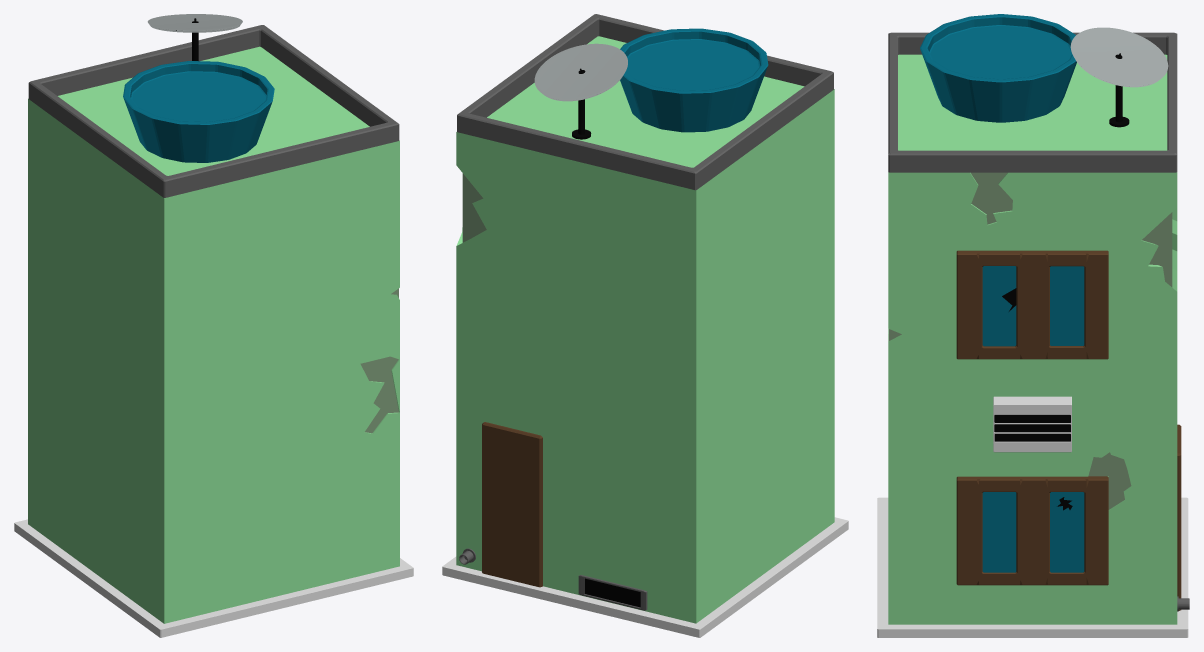
Rendered from Building #05.fbx.
3 views of the same model, side by side, from view 1: azimuth 30°, elevation 25°; view 2: azimuth 150°, elevation 25°; view 3: azimuth 270°, elevation 25° (orthographic). The views are drawn at different scales.
Parts seen in each view (by area): view 1: House.002, House.001, Roof.001, Box, Floor, Metal, Crack.004; view 2: House.002, House.001, Roof.001, Box, Door, Floor, Metal, Crack.005, Exit.002, Exit.001; view 3: House.002, House.001, Box, Wooden.001, Wooden.002, Roof.001, Floor, Window.002, Window.001, Metal, Air.002, Air.001 (+4 smaller).
Part boxes in pixels (<box>): House.002: <box>28,46,399,411</box>; House.001: <box>28,312,399,623</box>; Roof.001: <box>28,25,399,197</box>; Box: <box>123,61,274,162</box>; Floor: <box>14,519,413,637</box>; Metal: <box>147,14,242,32</box>; Crack.004: <box>360,356,398,433</box>; House.002: <box>456,36,834,407</box>; House.001: <box>456,306,834,623</box>; Roof.001: <box>457,14,833,190</box>; Box: <box>620,28,768,132</box>; Door: <box>482,422,542,587</box>; Floor: <box>442,517,848,637</box>; Metal: <box>534,43,627,101</box>; Crack.005: <box>462,173,486,242</box>; Exit.002: <box>584,578,640,607</box>; Exit.001: <box>578,575,647,610</box>; House.002: <box>888,54,1177,399</box>; House.001: <box>888,399,1177,624</box>; Box: <box>920,14,1076,122</box>; Wooden.001: <box>956,250,1108,359</box>; Wooden.002: <box>956,476,1108,585</box>; Roof.001: <box>888,32,1177,172</box>; Floor: <box>877,497,1188,637</box>; Window.002: <box>982,492,1084,572</box>; Window.001: <box>982,266,1084,346</box>; Metal: <box>1070,27,1168,87</box>; Air.002: <box>993,396,1071,452</box>; Air.001: <box>994,415,1070,441</box>.
Size of the model in its own units: 187 by 348 by 183.
